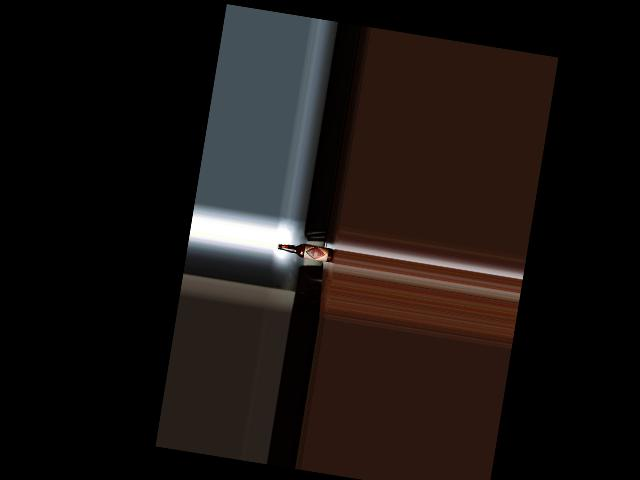beer: (277, 239, 334, 261)
